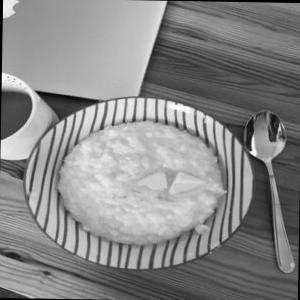porridge: (40, 102, 235, 262)
